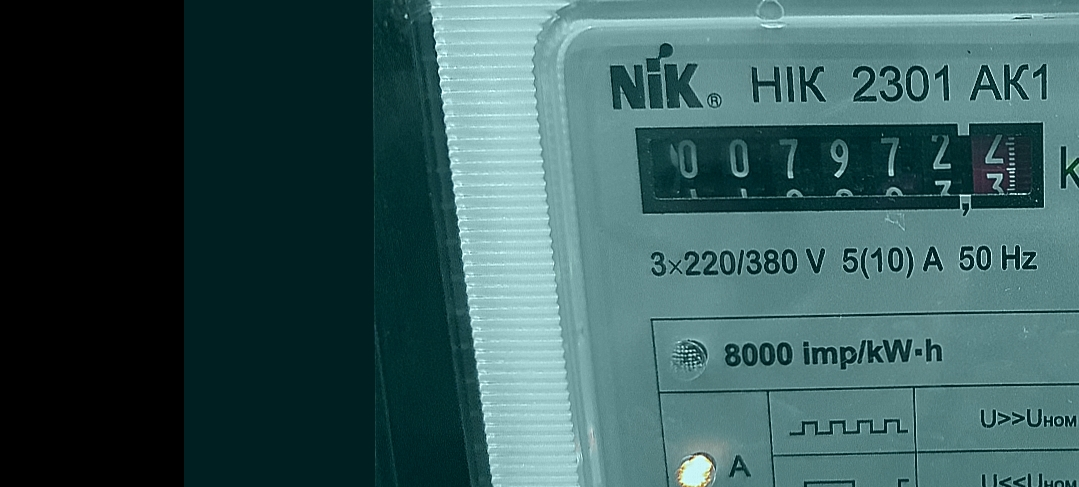0: (678, 137, 704, 178), (730, 136, 754, 178)
2: (933, 132, 956, 171), (985, 132, 1008, 166)
3: (987, 169, 1009, 195)
7: (880, 133, 906, 179), (780, 135, 804, 180)
9: (830, 135, 853, 178)
screen: (622, 109, 1064, 227)
